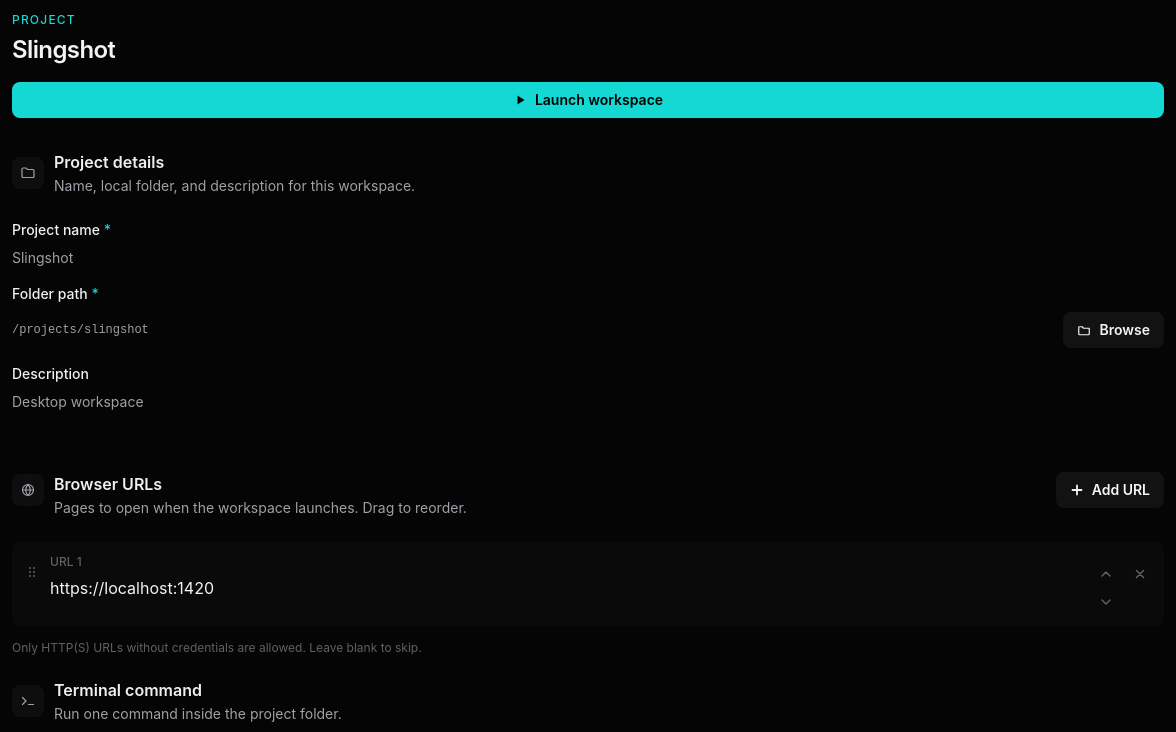
ProjectDetailPage › uses the native folder picker
Click the button "Browse".
click(1114, 330)  # box [1064,312,1164,348]
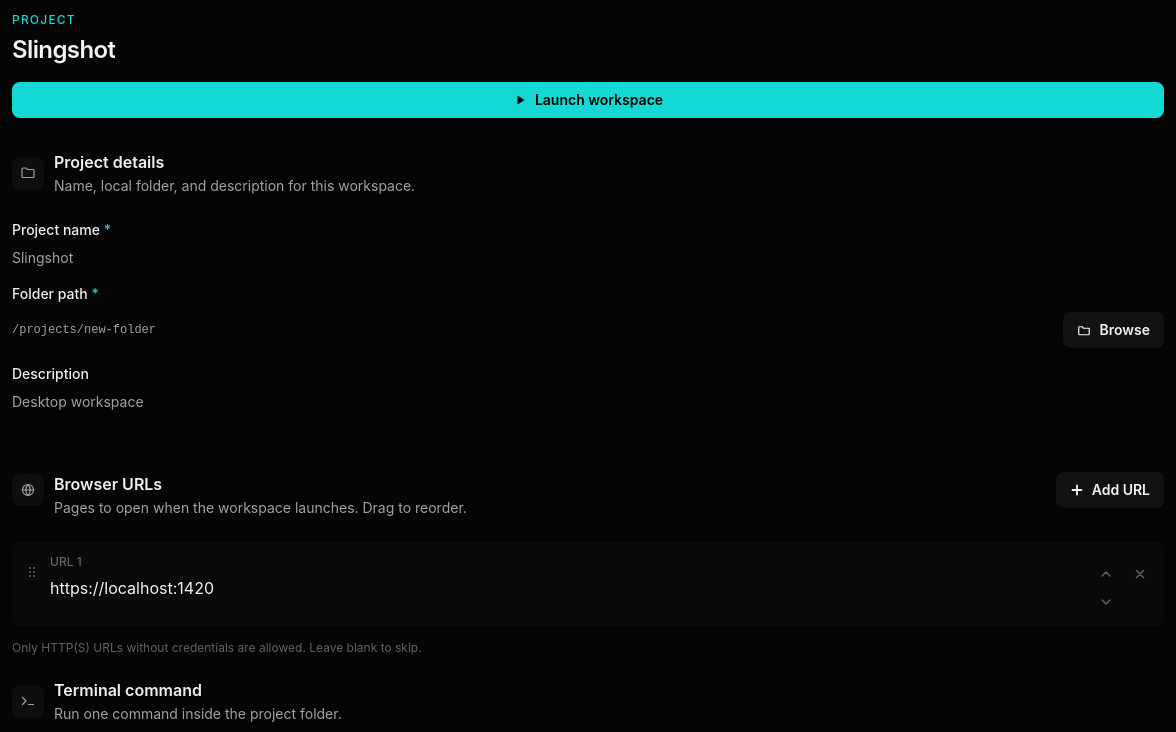
Check: the field labelled "Folder path *" holds "/projects/new-folder", box [12,322,1056,338]
